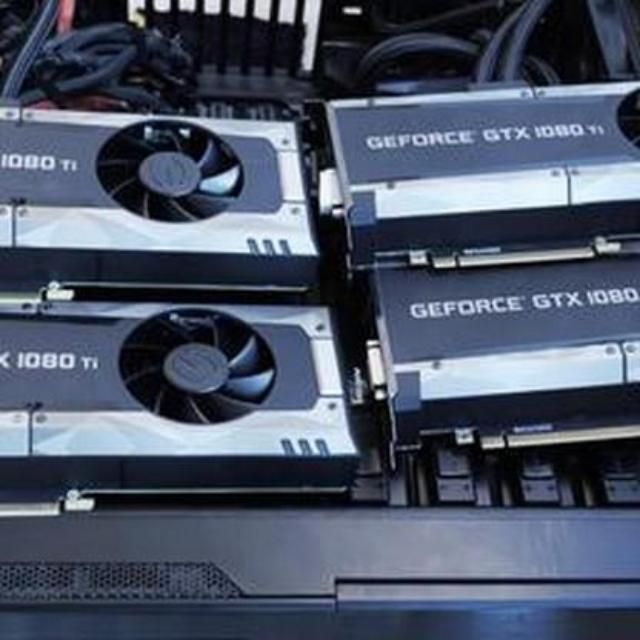GPU: (0, 294, 348, 488), (0, 101, 315, 272)
